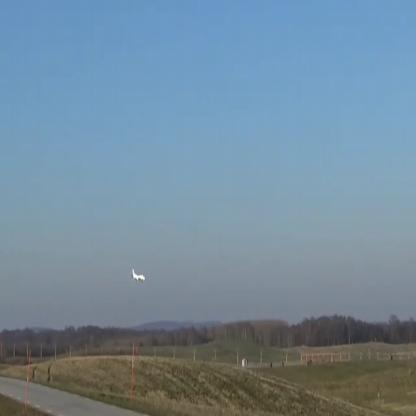aircraft: (132, 268, 146, 280)
